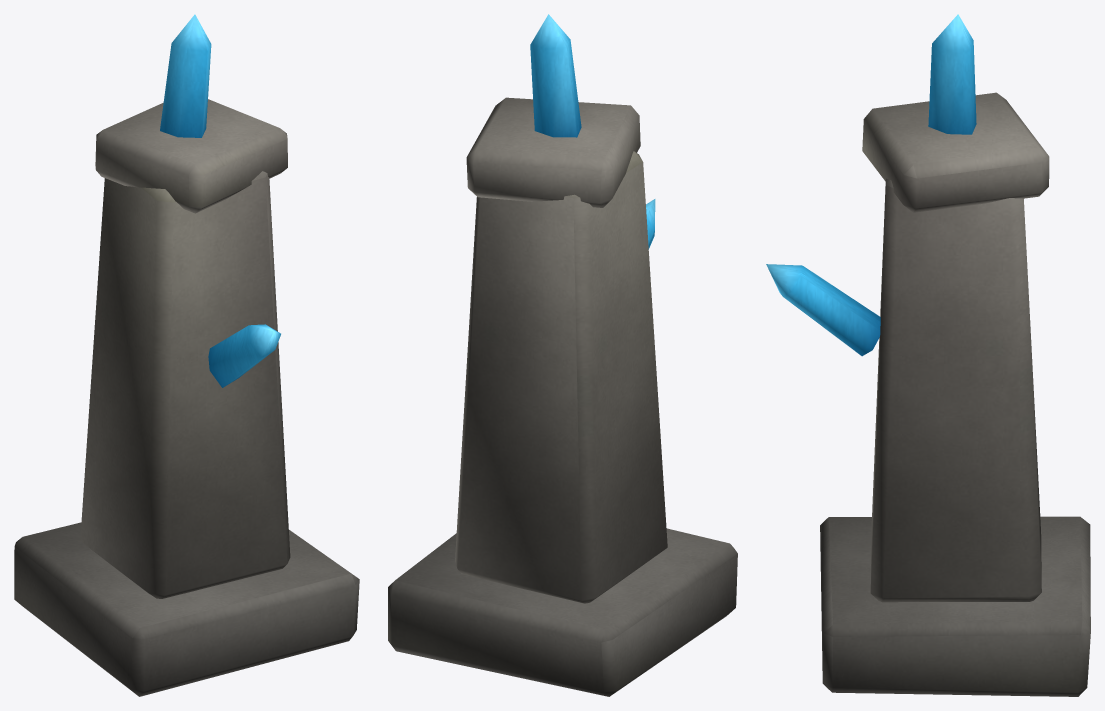
The model's file is waystone.glb.
3 views of the same model, side by side, from view 1: azimuth 30°, elevation 25°; view 2: azimuth 150°, elevation 25°; view 3: azimuth 270°, elevation 25° (orthographic). The views are drawn at different scales.
Visible parts, largest first — view 1: waystone; view 2: waystone; view 3: waystone.
Part boxes in pixels (x1,y1,x2,y2): waystone: (14,14,359,696); waystone: (388,14,737,696); waystone: (766,14,1090,696).
Bounding box in the file's own units: 1.13 × 2.87 × 1.33.
2 materials, 2 textured.
